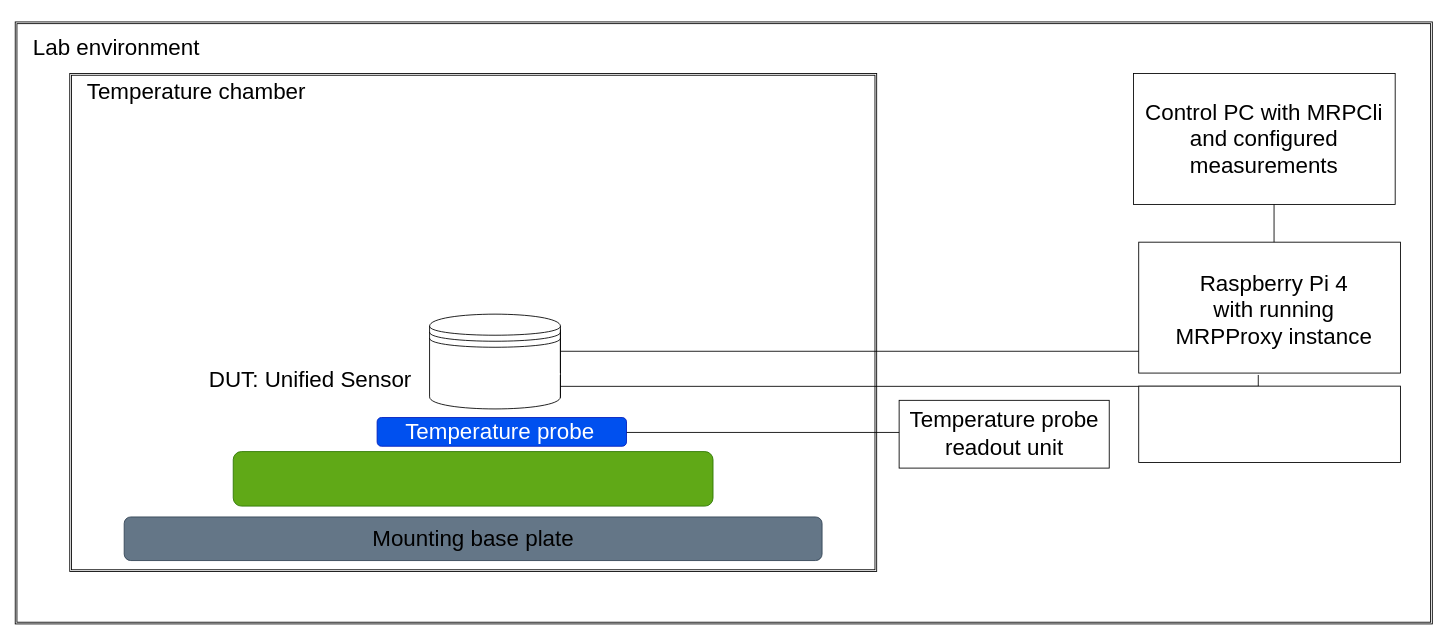
Image size: 1447x639. Some labels were removed from this diagram. Here are the shapes that lost their labels. From the top down, the centre of each, then its label:
At (909,351): "Isolated USB connection".
At (1269,424): "5V Battery based power supply".
At (472,478): "Temperature isolating spacer".
